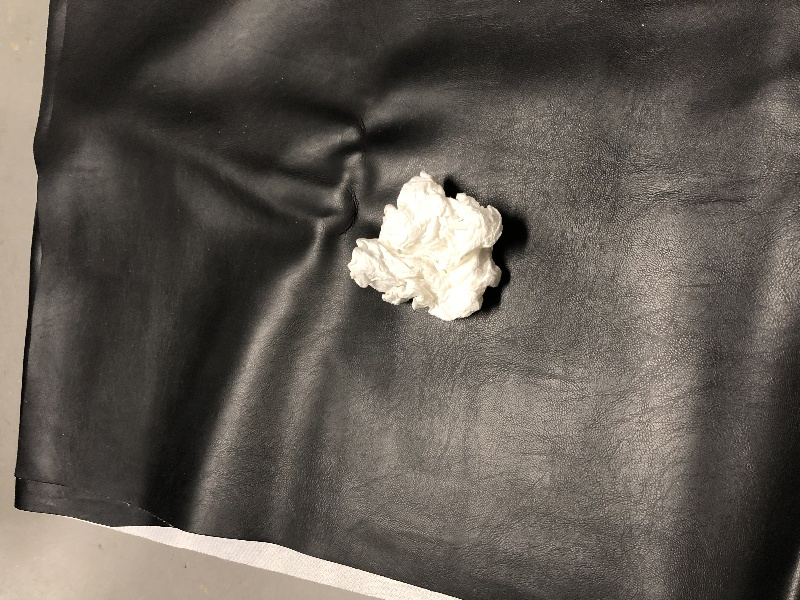paper: (332, 165, 535, 334)
